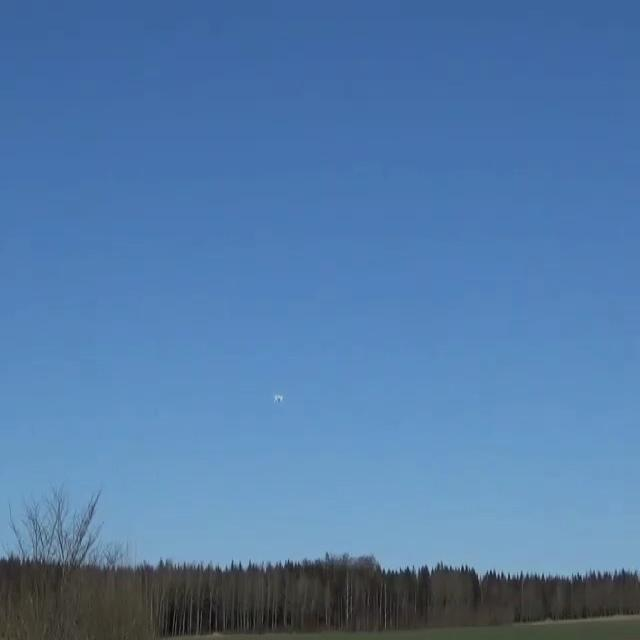drone: (274, 394, 283, 406)
